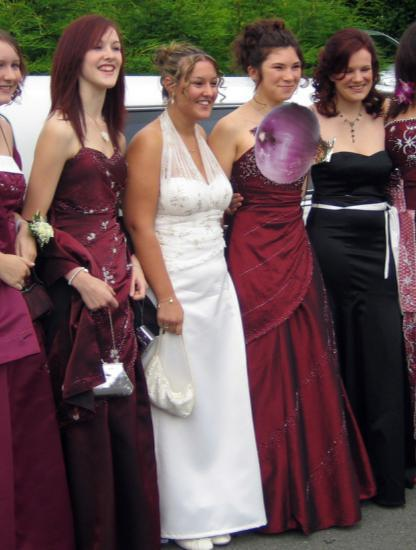Onion: (246, 100, 335, 189)
